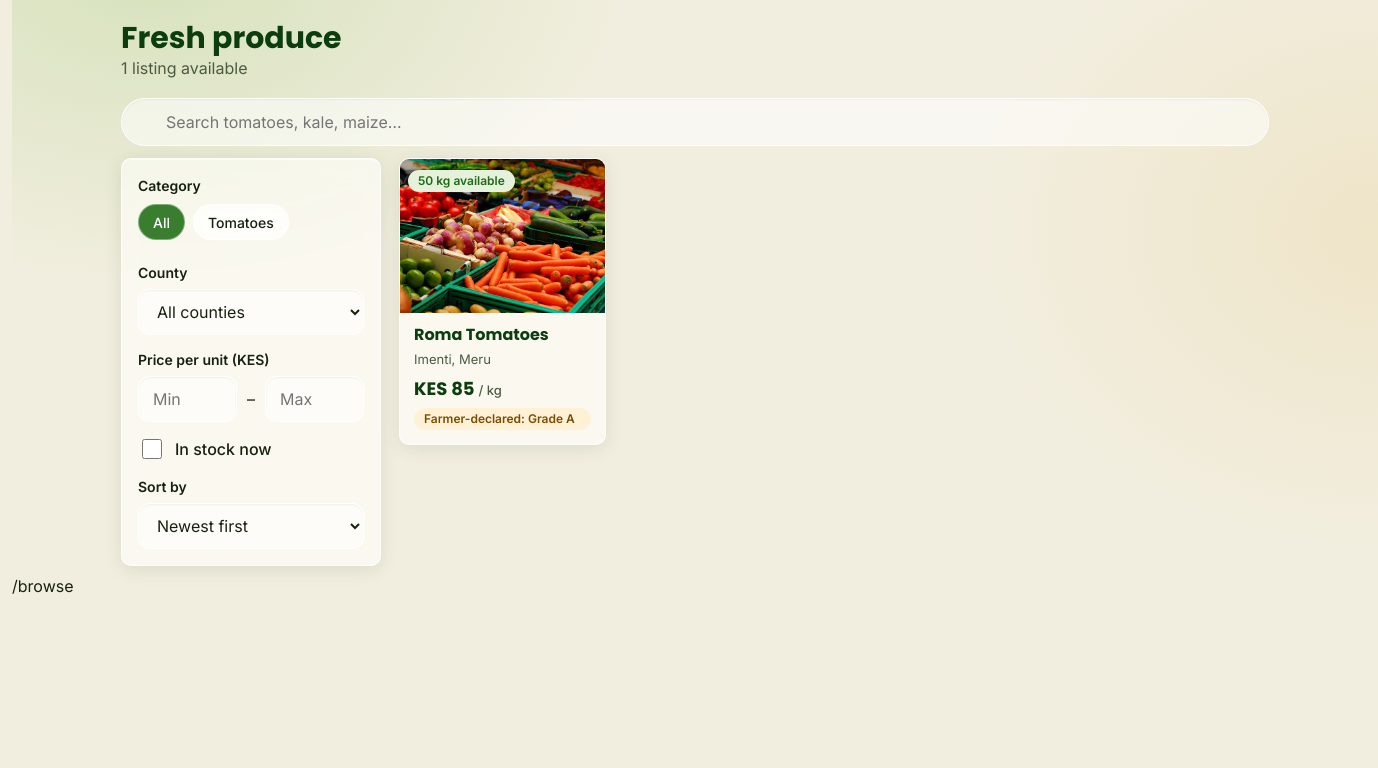
Test: browse › searches after a pause, keeps filters in the URL and lets you remove a chip
The image size is (1378, 768).
Expected: the heading "Roma Tomatoes" is shown, [414, 323, 549, 346]
Type "kale" into the search field named "Search produce".
click(695, 122); type("kale")  # box [121, 98, 1269, 146]
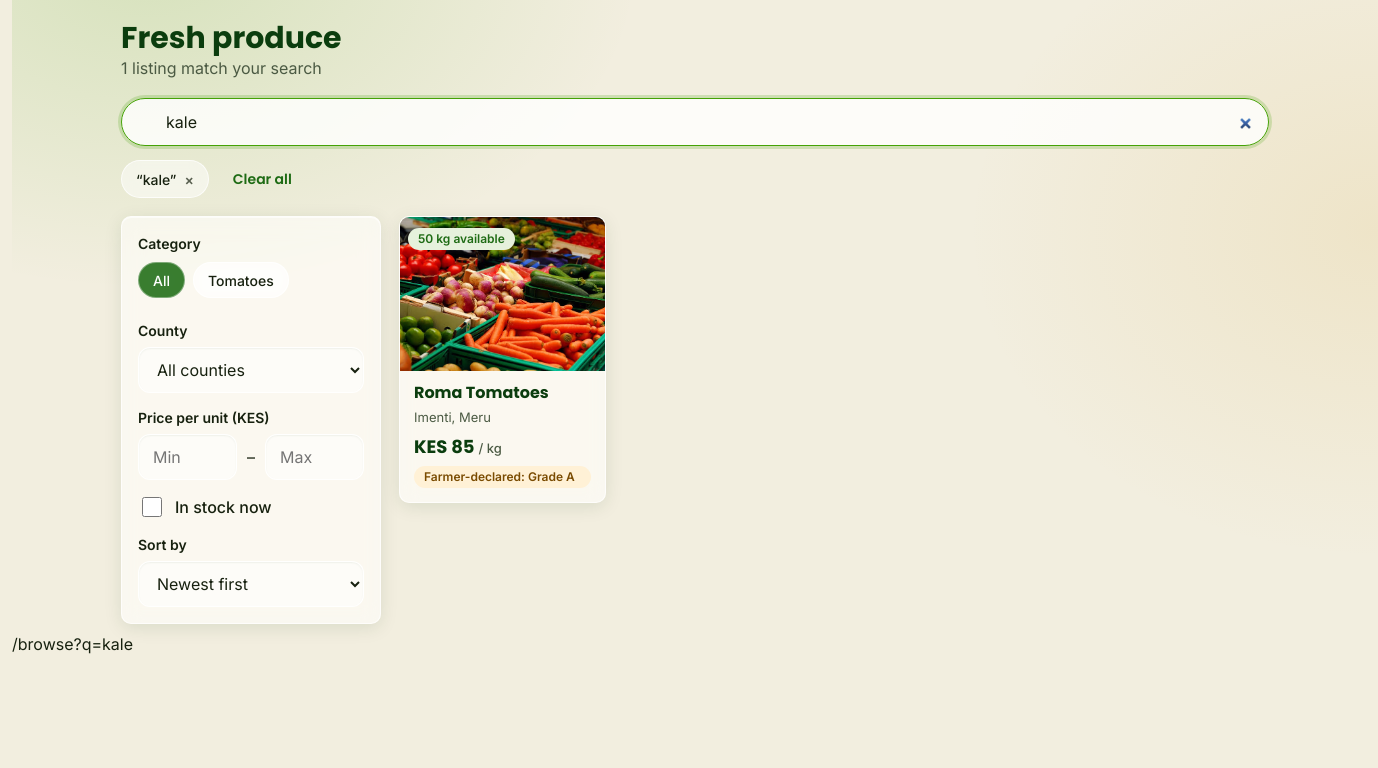
Result: the text with test id "where" reads "/browse?q=kale" at [12, 634, 133, 654]
Click the button with aria-label "Remove filter “kale”".
click(165, 179)  # box [121, 160, 209, 198]
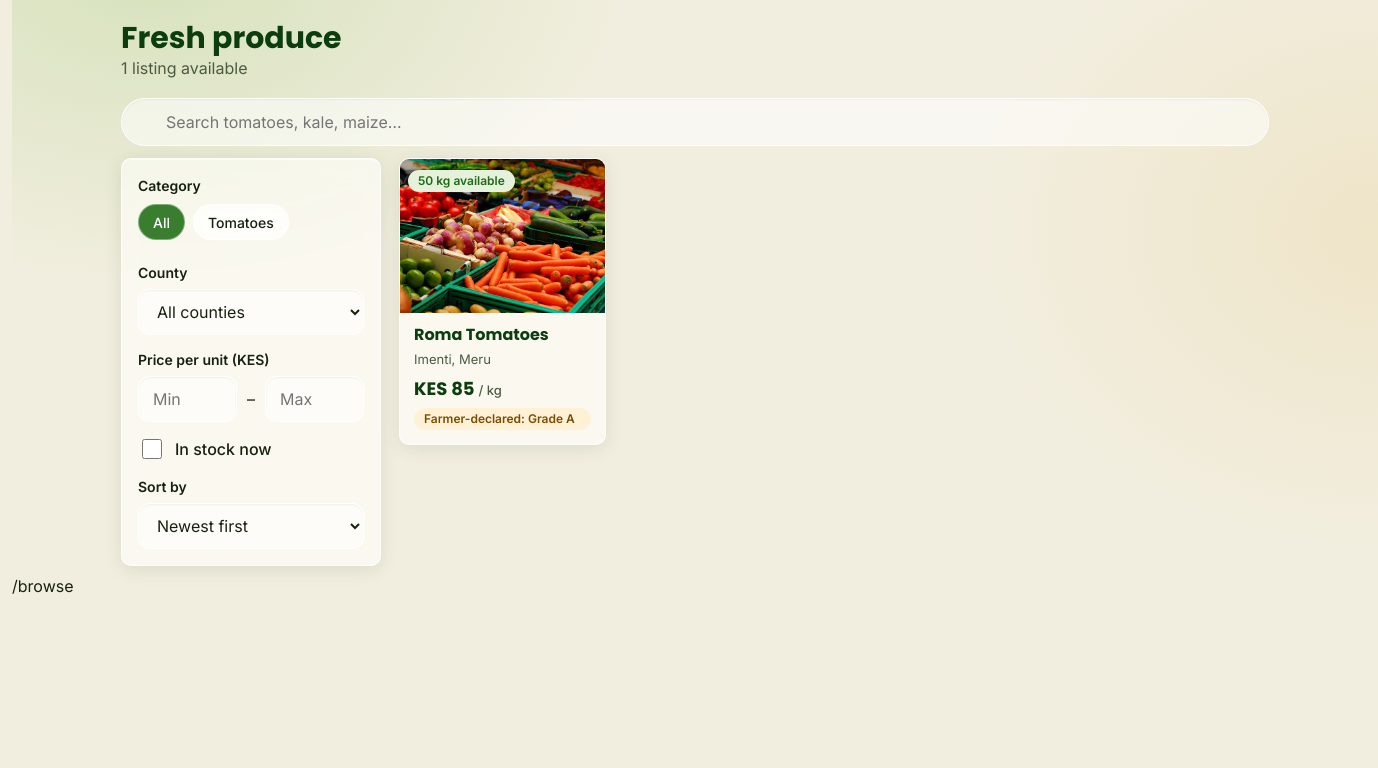
Result: the text with test id "where" reads "/browse" at [12, 576, 74, 596]
